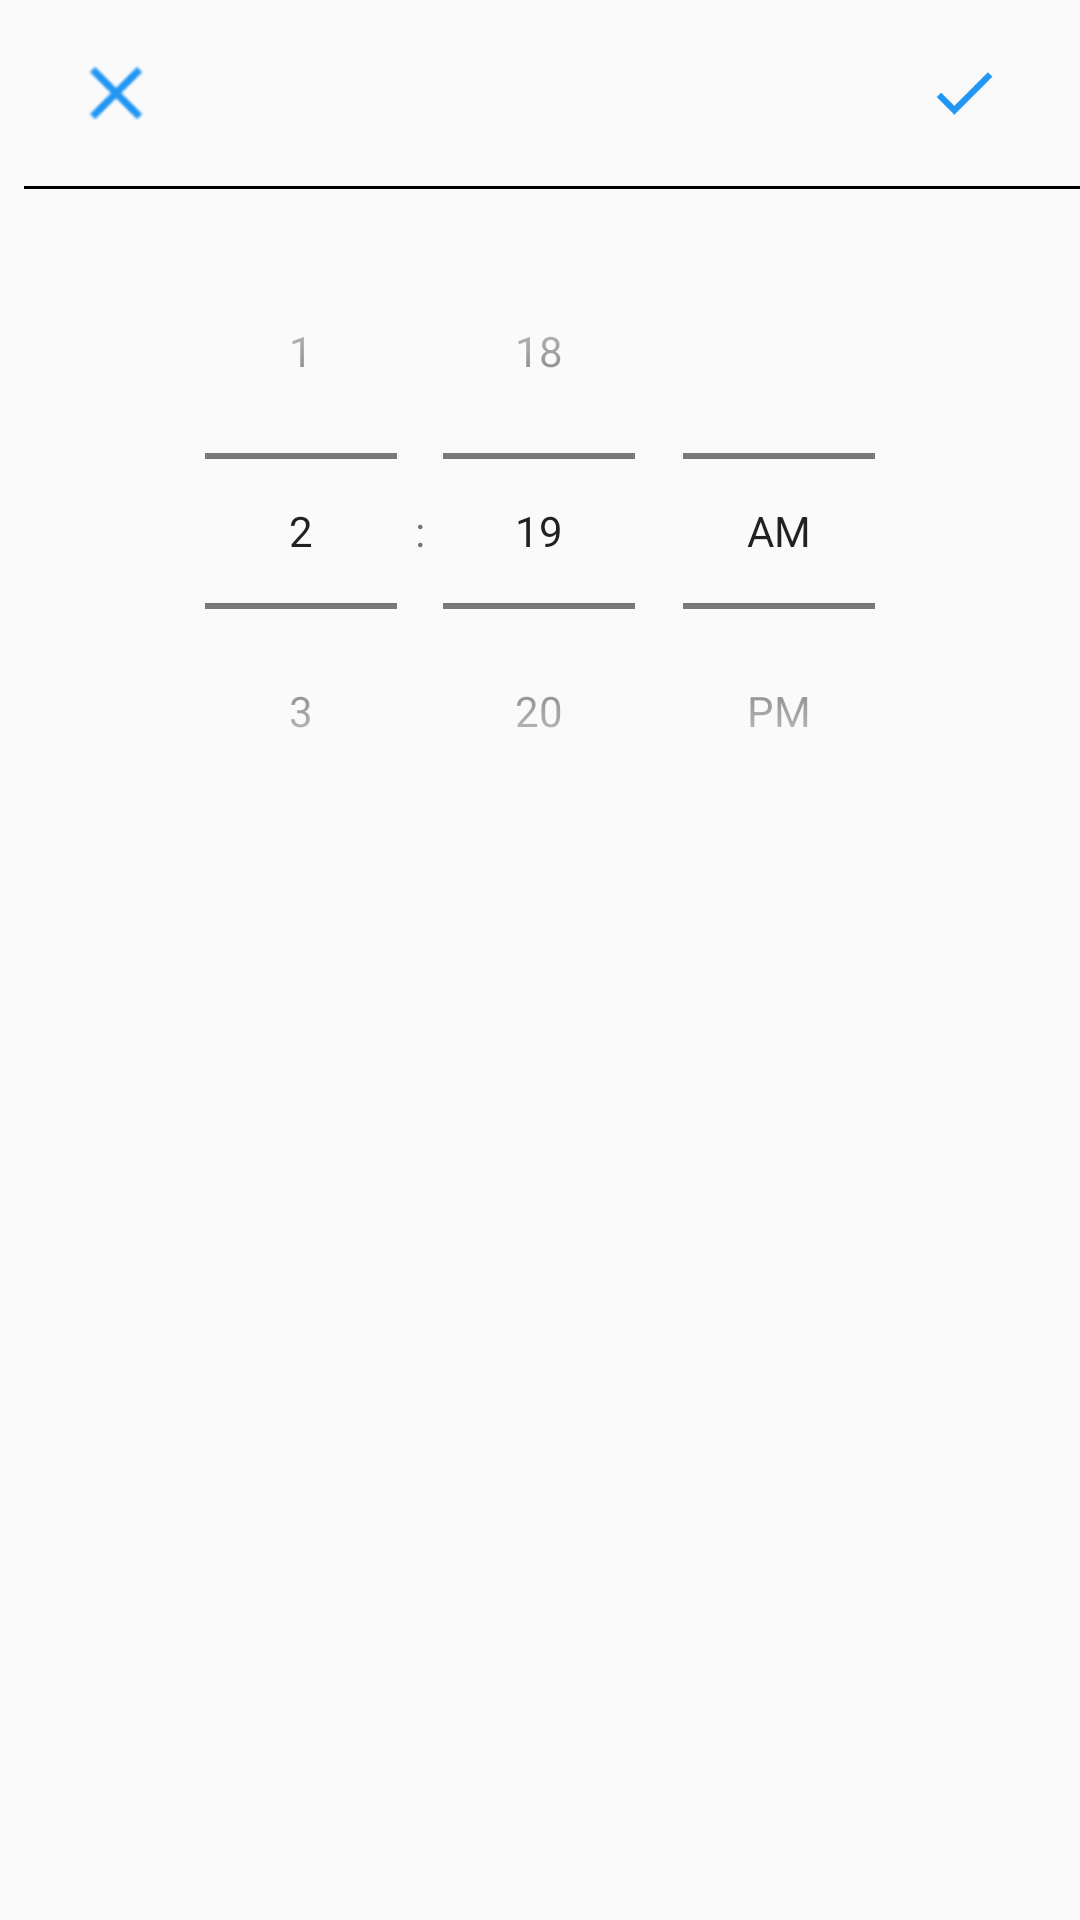

Where icons sit on this 1080×1920 app screen, as (x1, y1, x2, y2):
check: (937, 72, 993, 115)
close: (89, 66, 143, 120)
